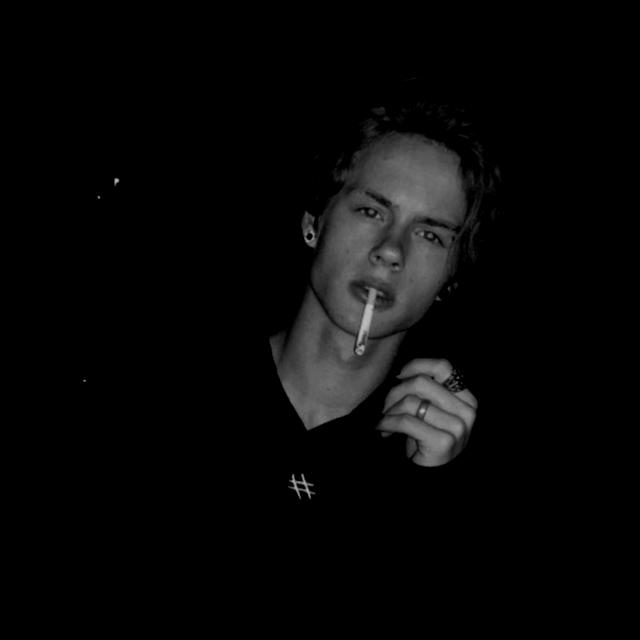smoke: (332, 272, 393, 369)
